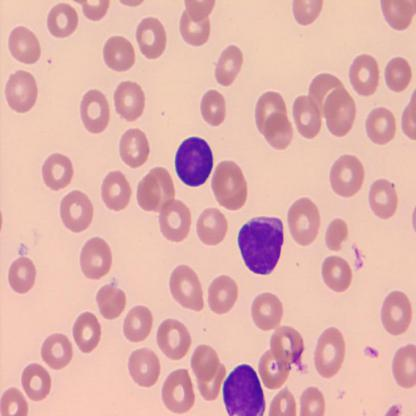Blast: (235, 212, 286, 278), (174, 134, 216, 189)
